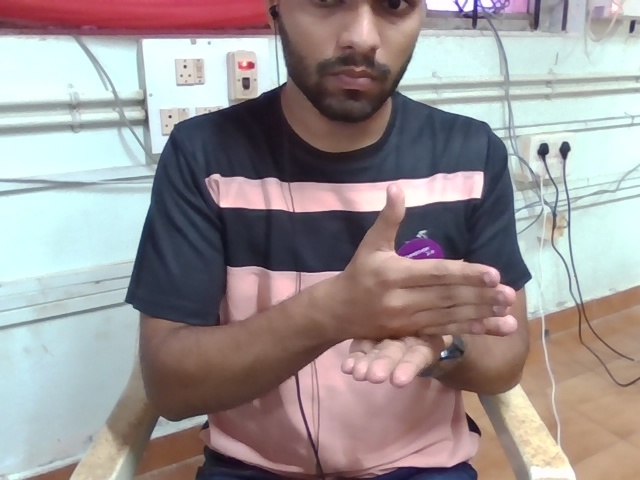stop: (322, 171, 538, 397)
